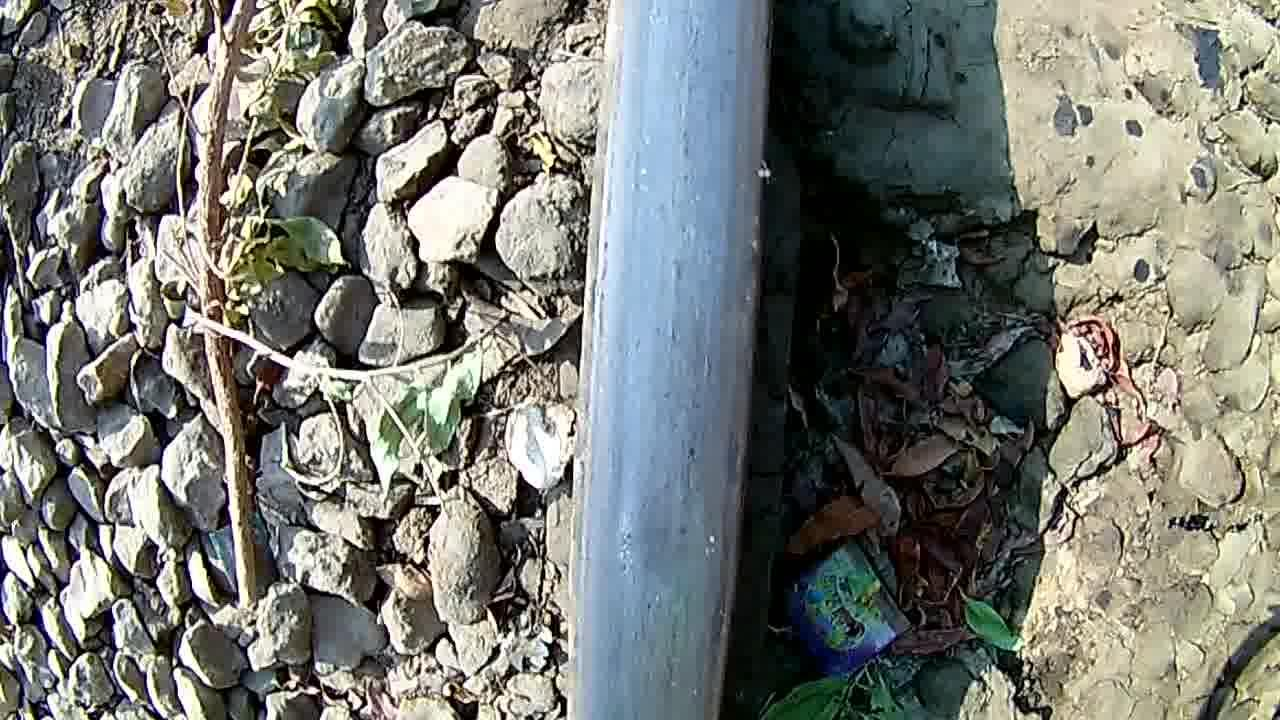bolt_missing: (572, 295, 754, 720)
